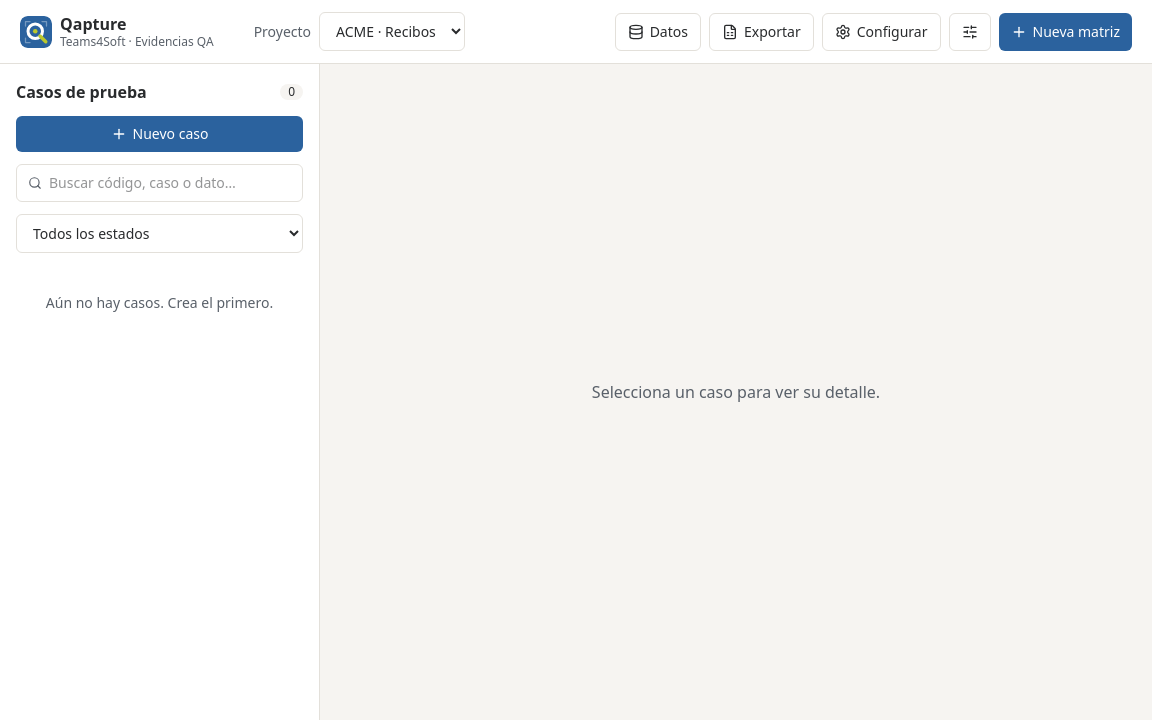
control de versiones del documento › registra, edita y elimina versiones
Click the button "Configurar" at x=881, y=32, box 822,12 -> 940,50
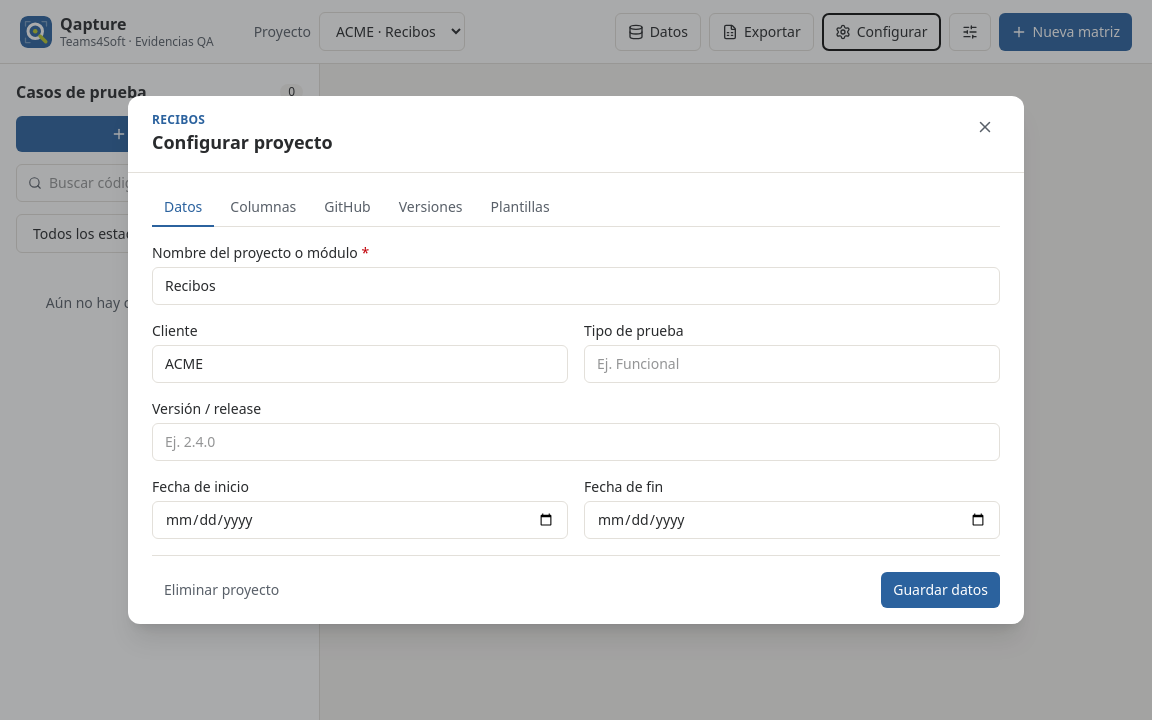
Click the tab "Versiones" at x=431, y=208, box 387,189 -> 474,227
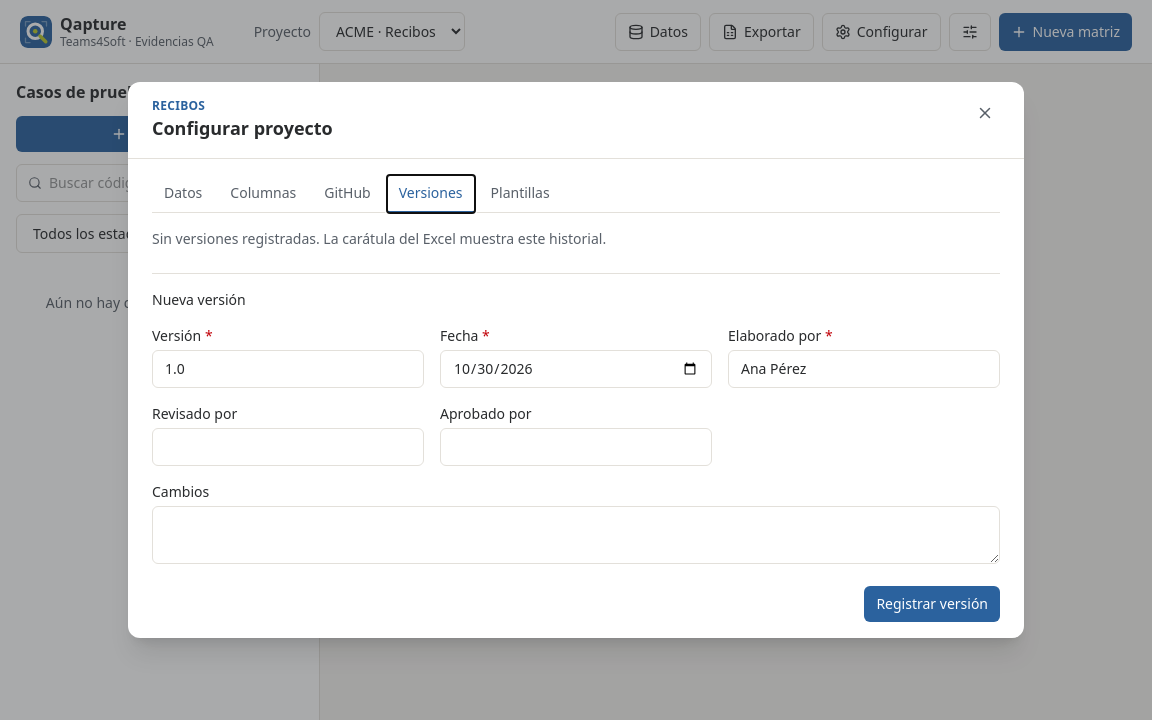
Expected: the text "Sin versiones registradas" is shown, 152,229 -> 606,248
Expected: the field labelled "Versión *" holds "1.0", 152,350 -> 424,388
Expected: the field labelled "Elaborado por *" holds "Ana Pérez", 728,350 -> 1000,388
Type "Versión inicial" into the text box labelled "Cambios" at x=576, y=535, box 152,506 -> 1000,564
Click the button "Registrar versión" at x=932, y=604, box 864,586 -> 1000,622
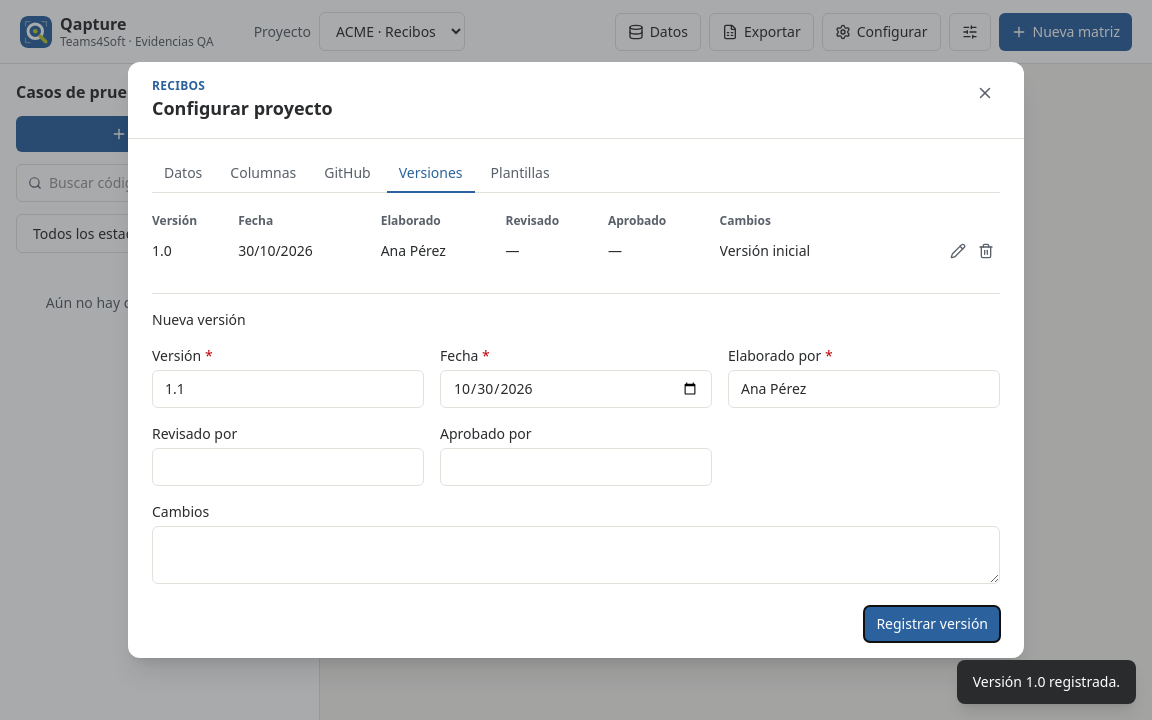
Expected: the text "Versión inicial" is shown, 720,233 -> 893,269
Expected: the field labelled "Versión *" holds "1.1", 152,370 -> 424,408
Click the button named "Editar versión 1.0" at x=958, y=251, box 944,237 -> 972,265
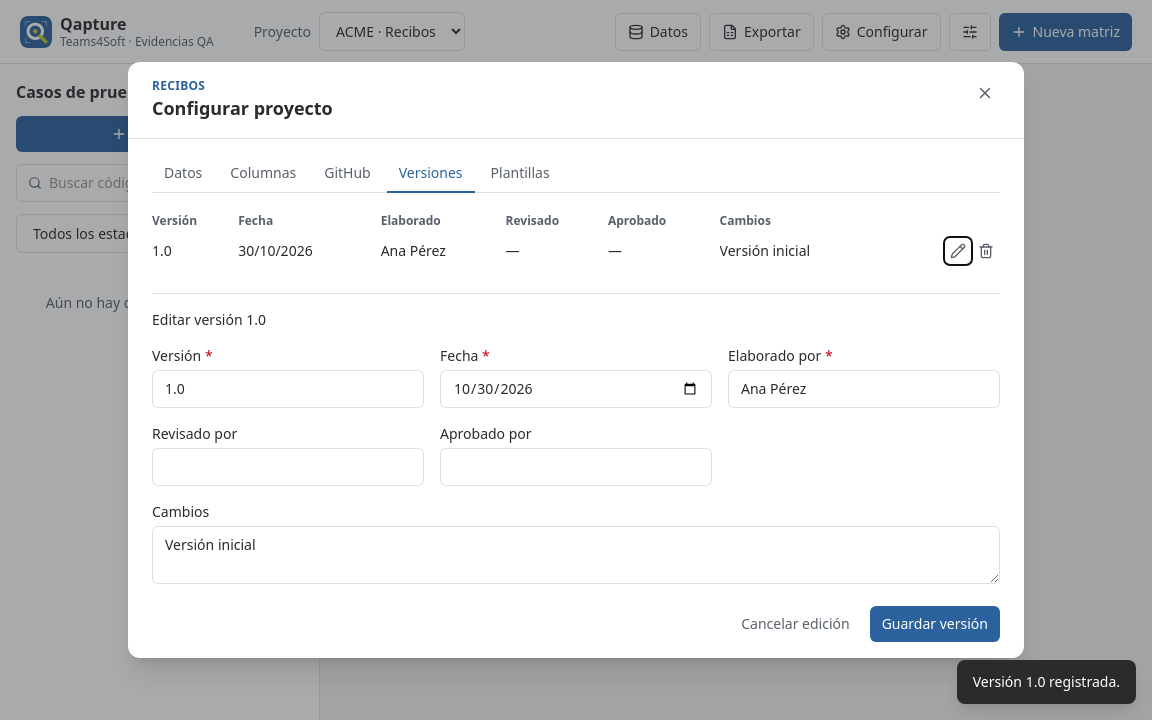
Replace the text in the text box labelled "Cambios" with "Se agregan casos de Pólizas" at x=576, y=555, box 152,526 -> 1000,584
Click the button "Guardar versión" at x=935, y=624, box 870,606 -> 1000,642
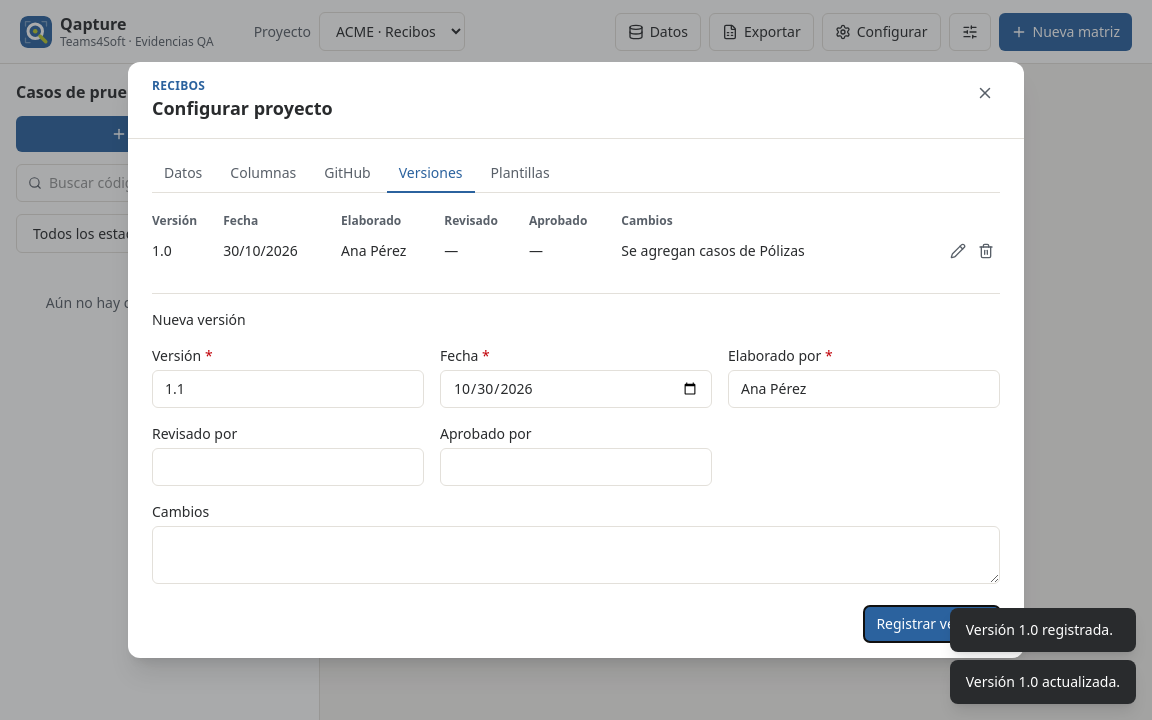
Expected: the text "Se agregan casos de Pólizas" is shown, 621,233 -> 911,269
Click the button named "Eliminar versión 1.0" at x=986, y=251, box 972,237 -> 1000,265
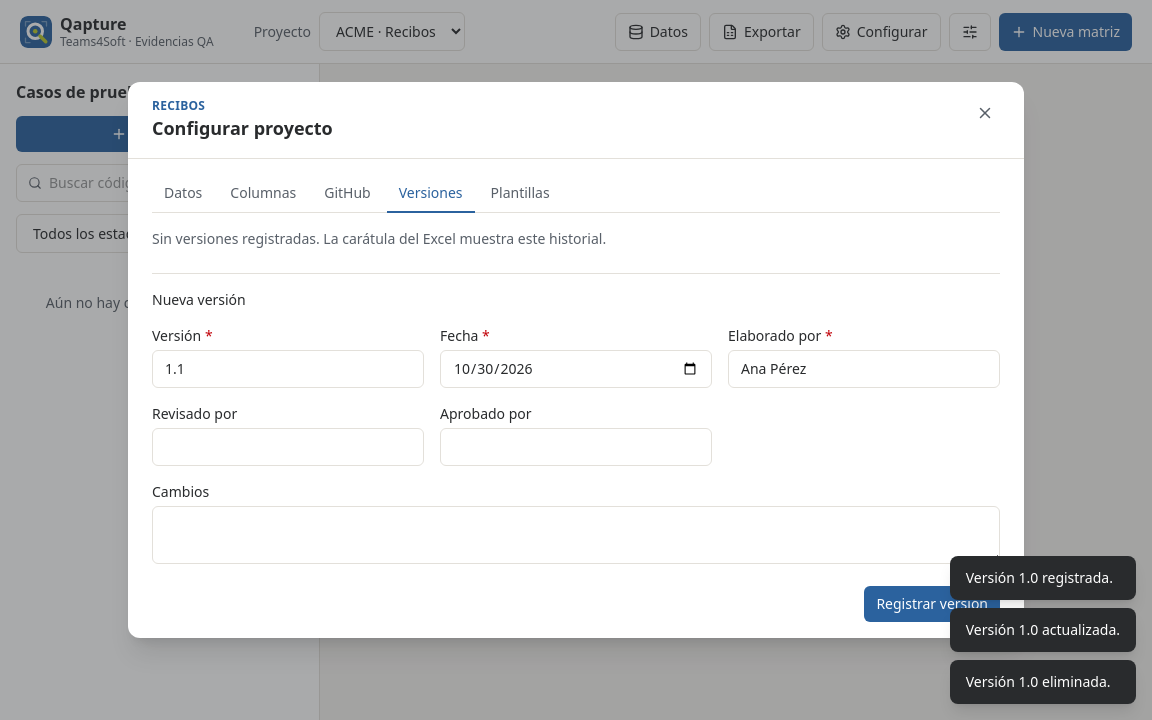
Expected: the text "Sin versiones registradas" is shown, 152,229 -> 606,248
